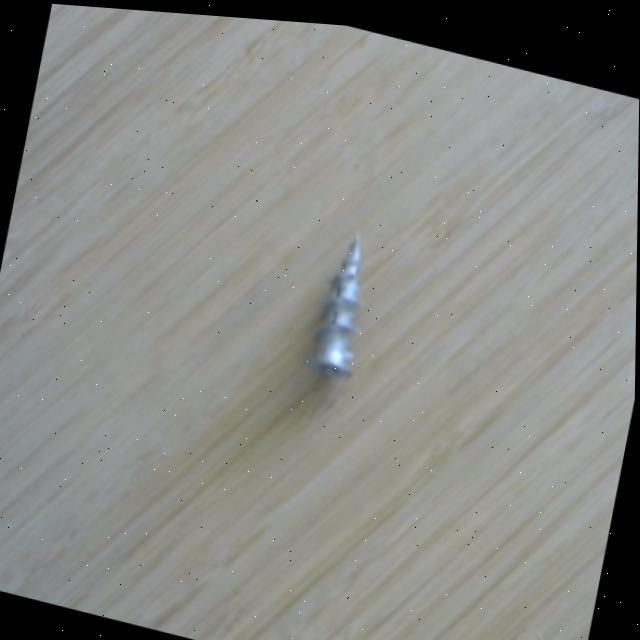Short screw: (298, 211, 390, 391)
